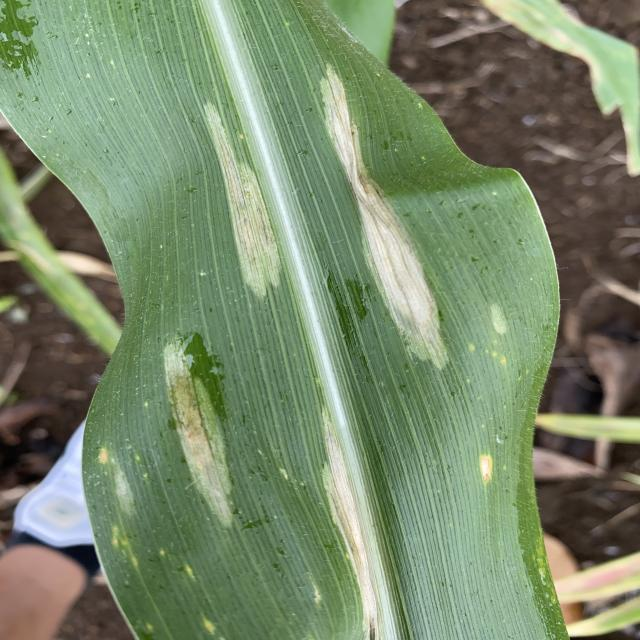Corn_Leaf_Blight: (82, 0, 561, 640)
